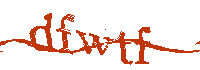d: (29, 13, 55, 54)
f: (56, 11, 74, 55), (134, 25, 152, 67)
t: (114, 30, 134, 67)
w: (75, 30, 112, 56)
